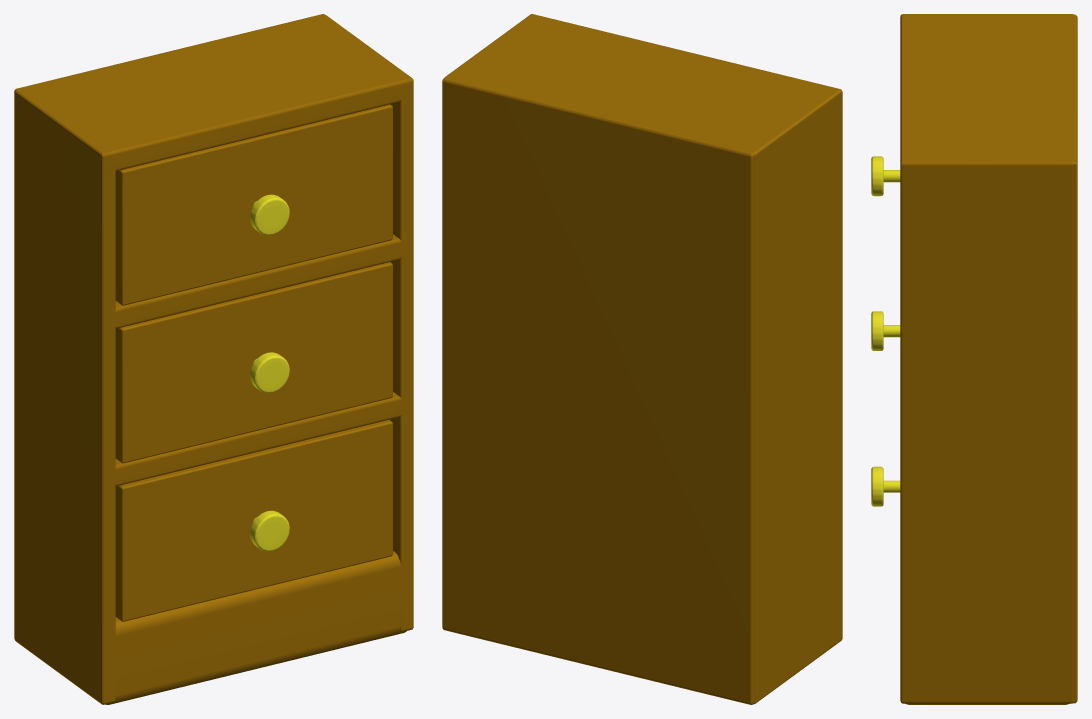
Rendered from chest 1.fbx.
3 renders of one model, left to right at view 1: azimuth 30°, elevation 25°; view 2: azimuth 150°, elevation 25°; view 3: azimuth 270°, elevation 25°, orthographic.
Parts seen in each view (by area): view 1: pasted__pasted__pasted__pCube1, pasted__pasted__pCube6, pasted__pCube6, pCube6, pasted__pasted__pCube7, pasted__pCube1, pasted__pasted__pCube8, pasted__pasted__pasted__pasted__pCube1, pasted__pasted__pasted__pCube5, pasted__pasted__pCylinder1, pCylinder1, pasted__pCylinder1 (+1 smaller); view 2: pasted__pasted__pCube1, pasted__pasted__pasted__pCube1, pasted__pasted__pCube7; view 3: pasted__pasted__pCube8, pasted__pasted__pCube7, pasted__pasted__pCube1, pasted__pasted__pCylinder1, pCylinder1, pasted__pCylinder1.
Part boxes in pixels (bbox=[...]): pasted__pasted__pasted__pCube1: bbox=[14, 90, 115, 704]; pasted__pasted__pCube6: bbox=[115, 420, 392, 621]; pasted__pCube6: bbox=[115, 262, 392, 463]; pCube6: bbox=[115, 104, 392, 305]; pasted__pasted__pCube7: bbox=[18, 15, 411, 171]; pasted__pCube1: bbox=[105, 551, 406, 704]; pasted__pasted__pCube8: bbox=[325, 15, 413, 631]; pasted__pasted__pasted__pasted__pCube1: bbox=[110, 392, 406, 486]; pasted__pasted__pasted__pCube5: bbox=[109, 234, 405, 328]; pasted__pasted__pCylinder1: bbox=[250, 510, 289, 551]; pCylinder1: bbox=[250, 194, 289, 235]; pasted__pCylinder1: bbox=[250, 352, 289, 393]; pasted__pasted__pCube1: bbox=[442, 77, 753, 704]; pasted__pasted__pasted__pCube1: bbox=[753, 89, 842, 704]; pasted__pasted__pCube7: bbox=[446, 14, 838, 151]; pasted__pasted__pCube8: bbox=[900, 161, 1073, 703]; pasted__pasted__pCube7: bbox=[900, 14, 1071, 163]; pasted__pasted__pCube1: bbox=[1072, 14, 1077, 703]; pasted__pasted__pCylinder1: bbox=[871, 466, 883, 506]; pCylinder1: bbox=[871, 156, 883, 196]; pasted__pCylinder1: bbox=[871, 311, 883, 350].
Size of the model in its own units: 0.9611 by 1.63 by 0.5596.
